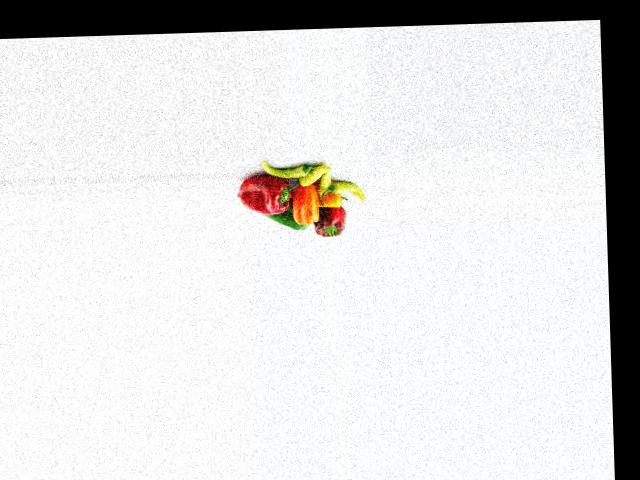bell_pepper: (258, 160, 317, 178)
